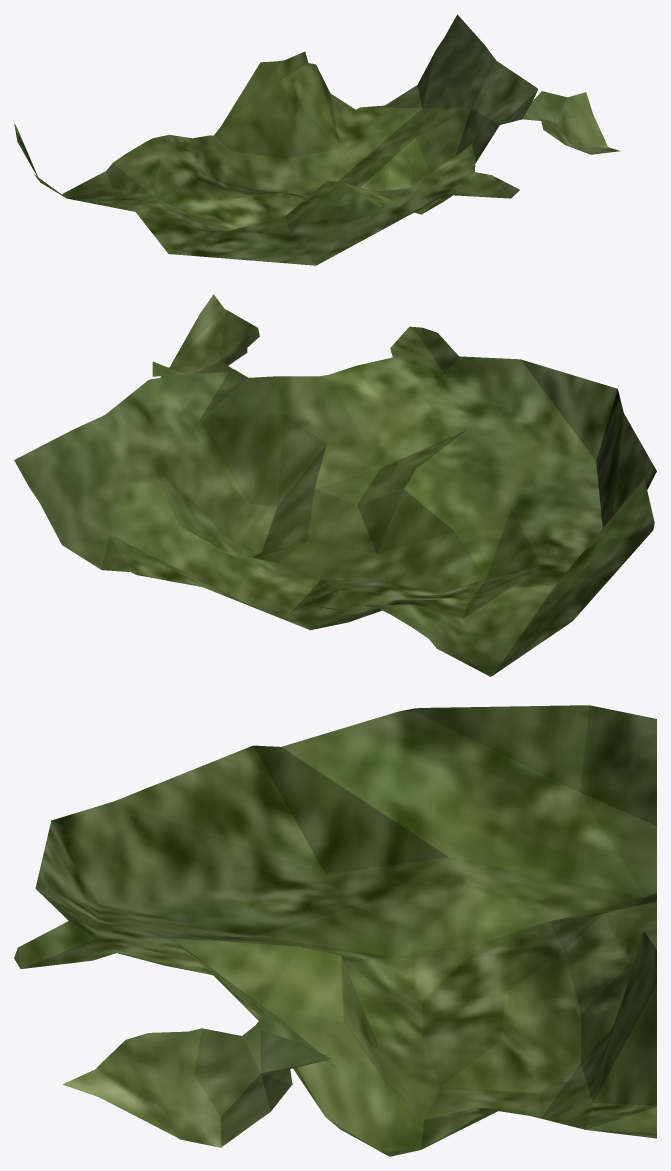
3 views of the same model, one above another, from view 1: azimuth 30°, elevation 25°; view 2: azimuth 150°, elevation 25°; view 3: azimuth 270°, elevation 25° (orthographic). The views are drawn at different scales.
Size of the model in its own units: 1.74 by 0.3773 by 1.24.
Materials: 1 (1 with a texture image).
